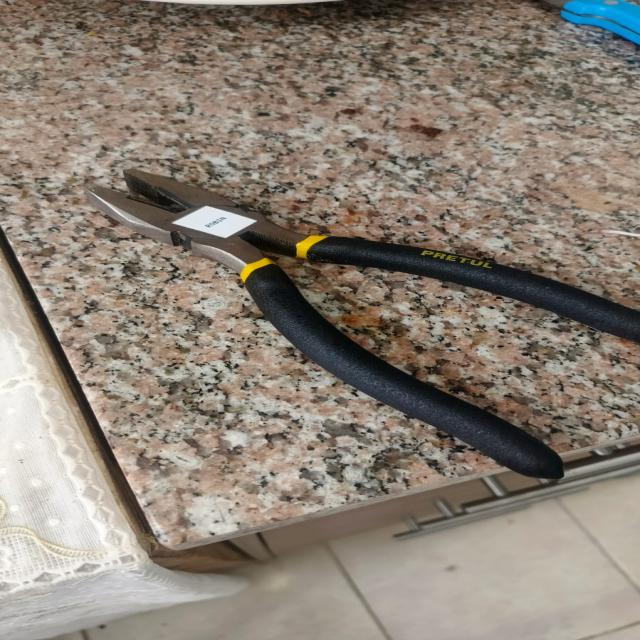alicate: (71, 139, 640, 493)
